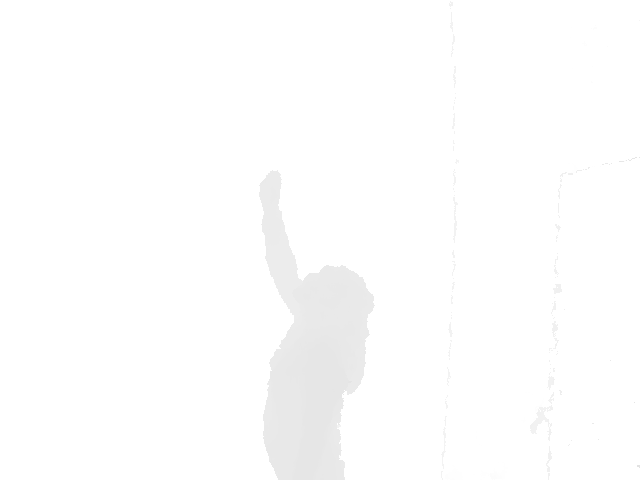hand: (259, 170, 284, 208)
head: (296, 264, 375, 343)
person: (259, 170, 375, 480)
